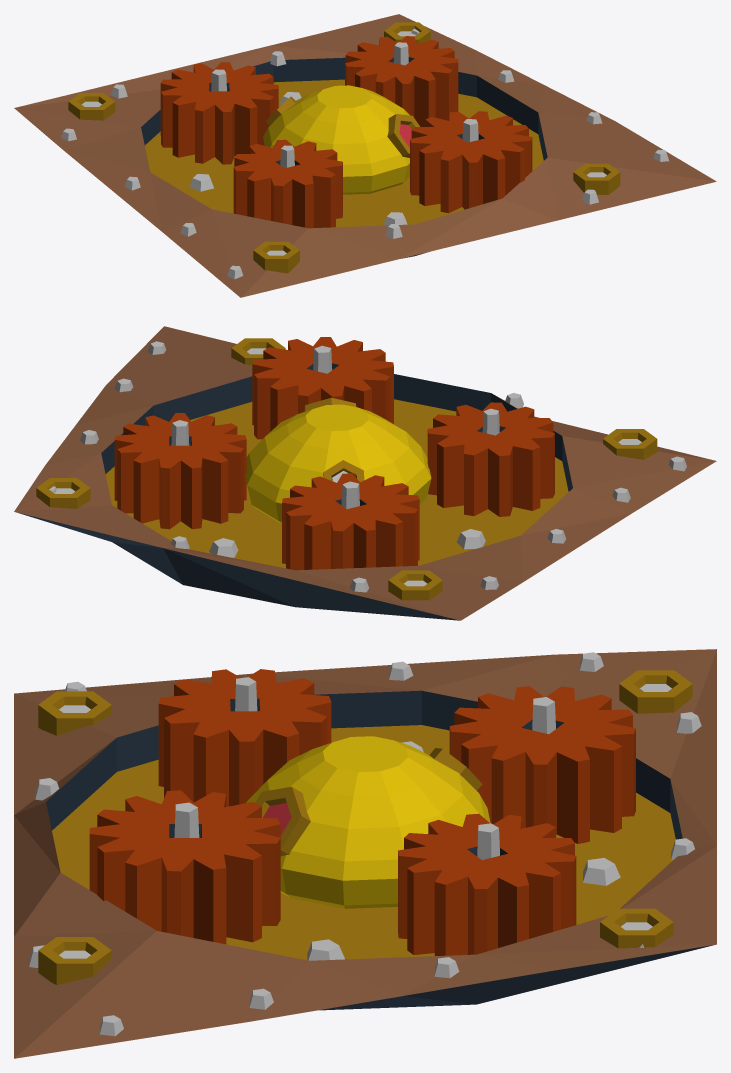
File: whimsical-gear-hub-88deb5.glb
3 views of the same model, one above another, from view 1: azimuth 30°, elevation 25°; view 2: azimuth 150°, elevation 25°; view 3: azimuth 270°, elevation 25° (orthographic). The views are drawn at different scales.
Visible parts, largest first — view 1: middle-finger-metacarpal, orb-mesh, cog-0-mesh, cog-2-mesh, cog-3-mesh, cog-1-mesh; view 2: middle-finger-metacarpal, cog-1-mesh, orb-mesh, cog-3-mesh, cog-2-mesh, cog-0-mesh; view 3: middle-finger-metacarpal, orb-mesh, cog-0-mesh, cog-2-mesh, cog-1-mesh, cog-3-mesh.
Part boxes in pixels (x1,y1,x2,y2): middle-finger-metacarpal: (14,14,716,297); orb-mesh: (263,85,419,194); cog-0-mesh: (410,111,532,213); cog-2-mesh: (160,62,278,164); cog-3-mesh: (233,139,342,228); cog-1-mesh: (345,36,458,126); middle-finger-metacarpal: (14,326,716,620); cog-1-mesh: (114,413,246,529); orb-mesh: (245,397,431,523); cog-3-mesh: (427,402,554,516); cog-2-mesh: (282,473,419,570); cog-0-mesh: (252,337,393,439); middle-finger-metacarpal: (14,649,716,1058); orb-mesh: (246,736,490,908); cog-0-mesh: (89,790,280,944); cog-2-mesh: (449,686,635,843); cog-1-mesh: (398,813,576,955); cog-3-mesh: (158,669,331,806).
Size of the model in its own units: 0.0404 by 0.0066 by 0.0325.
